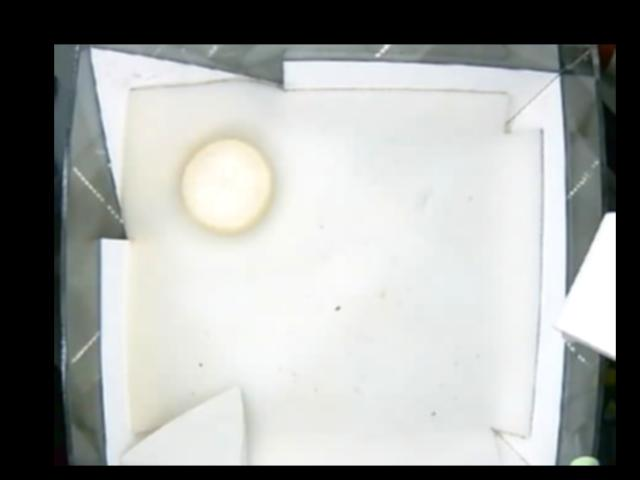China: (113, 383, 248, 465)
Mooli: (177, 135, 274, 234)
